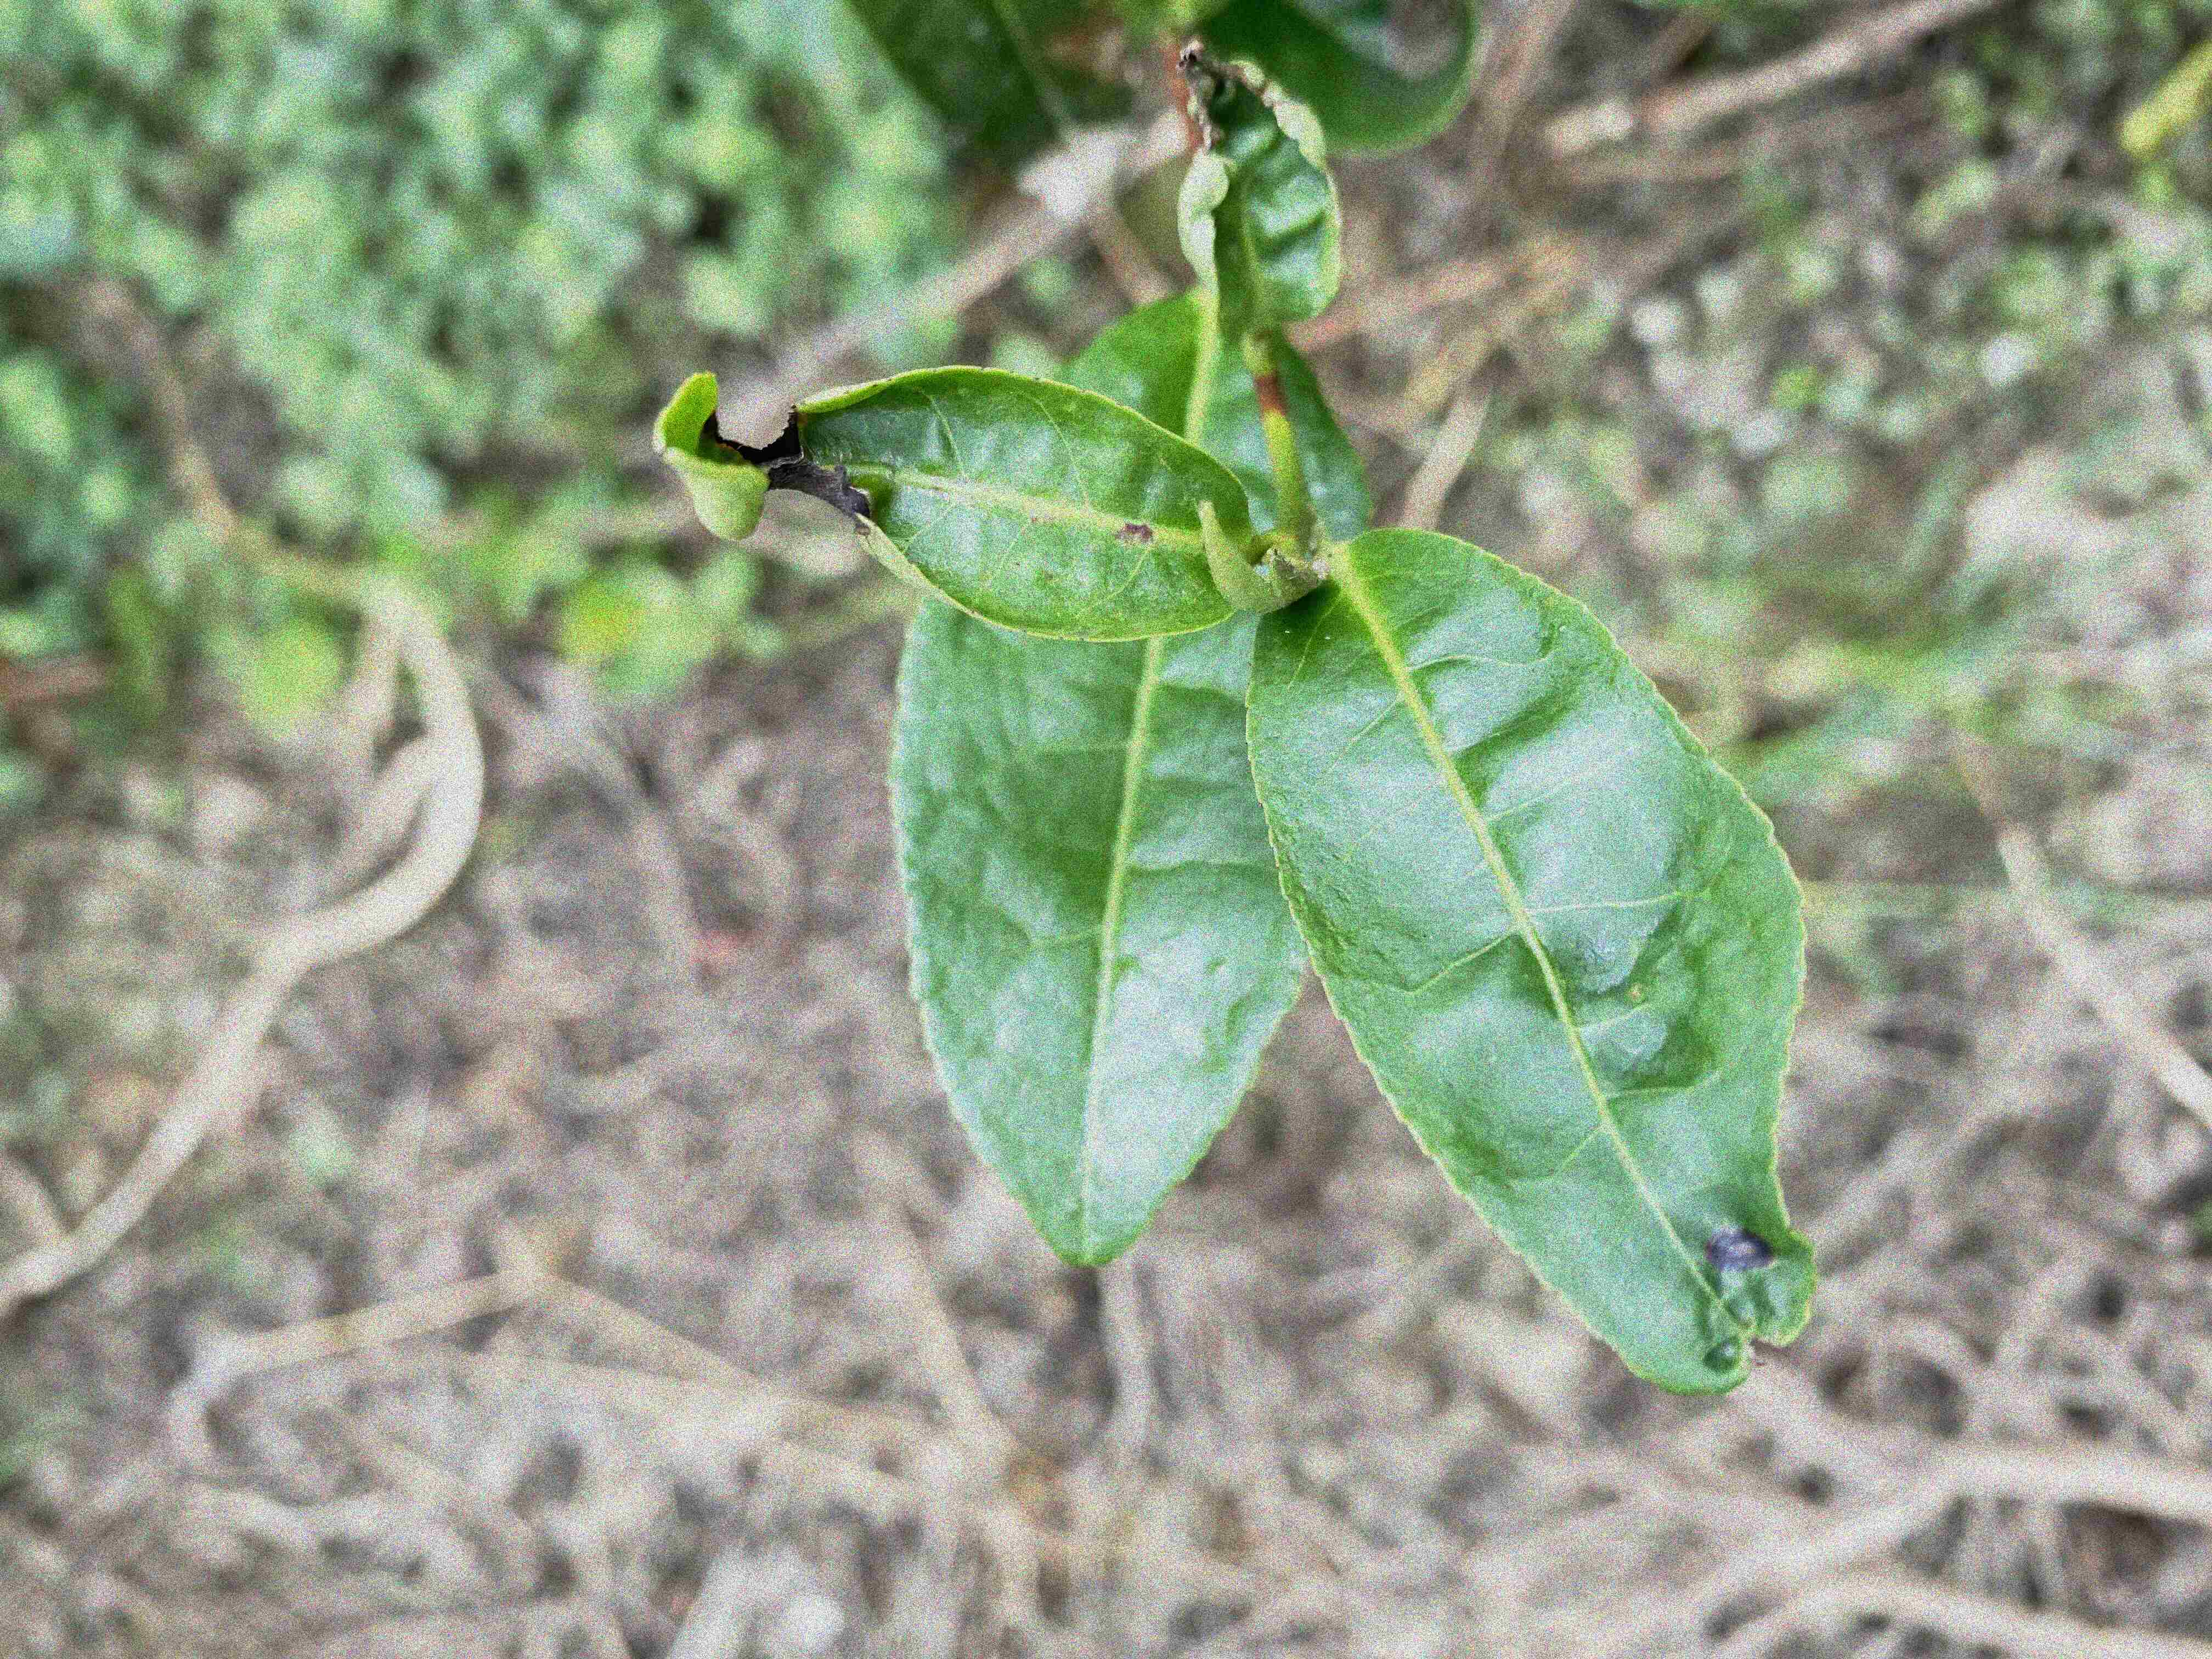tanju_low: (1245, 526, 1818, 1394)
